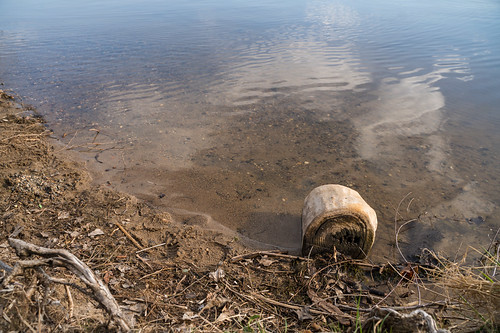river: (43, 1, 500, 222)
